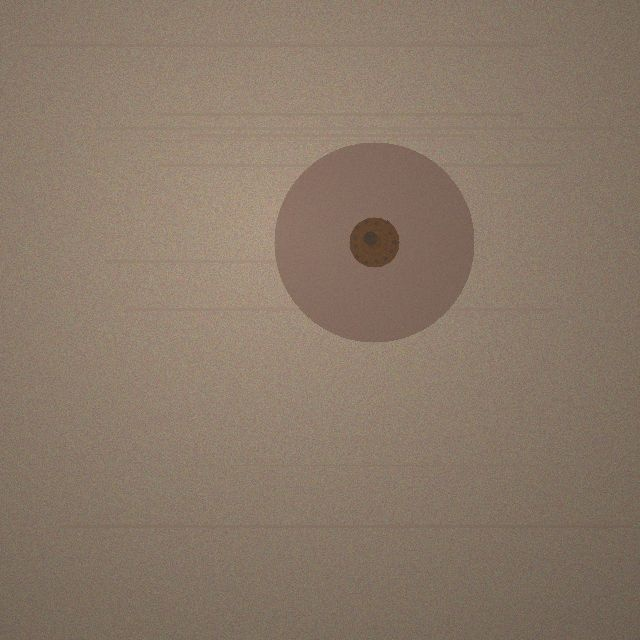cold_weld: (274, 142, 474, 342)
